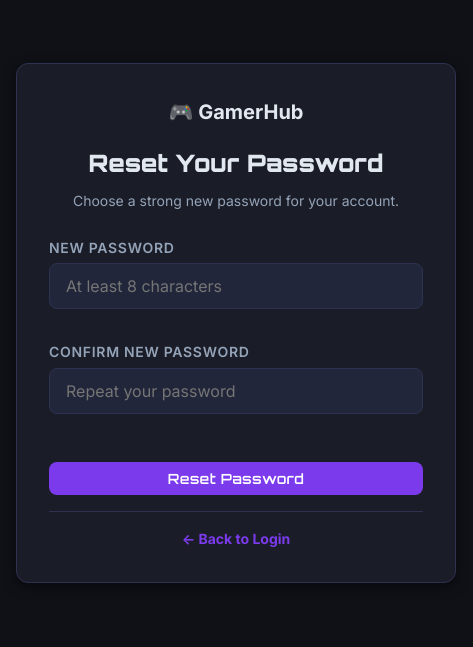
Test: ResetPasswordPage — API interaction › shows a server error when api.put rejects
Type "Password123!" into the password field labelled "New Password" at point(236, 286), box x1=49 y1=263 x2=423 y2=309
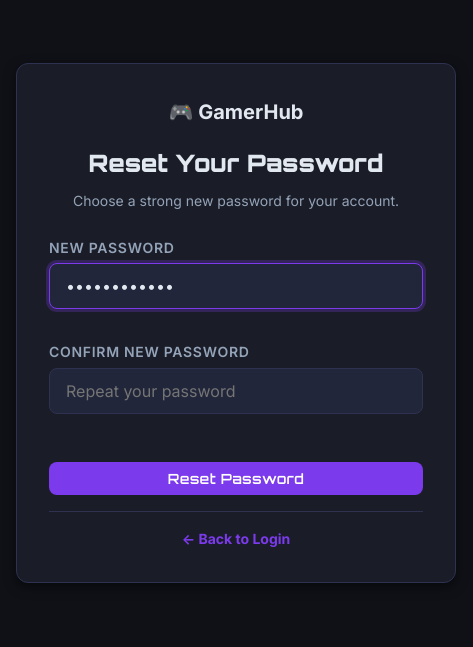
Type "Password123!" into the password field labelled "Confirm New Password" at point(236, 391), box x1=49 y1=368 x2=423 y2=414
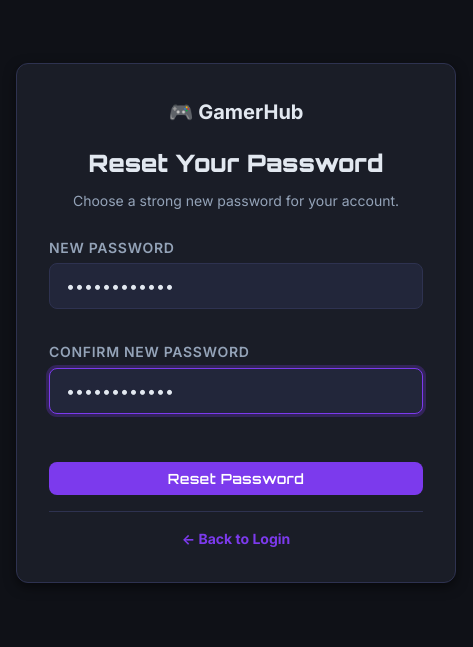
Click the button "Reset Password" at point(236, 478), box x1=49 y1=462 x2=423 y2=495
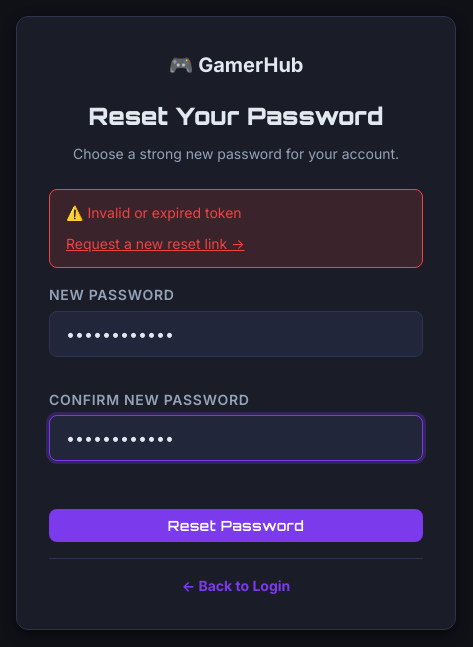
Check: the text "⚠️ Invalid or expired token Request a new reset link →" is shown, box x1=49 y1=189 x2=423 y2=268
